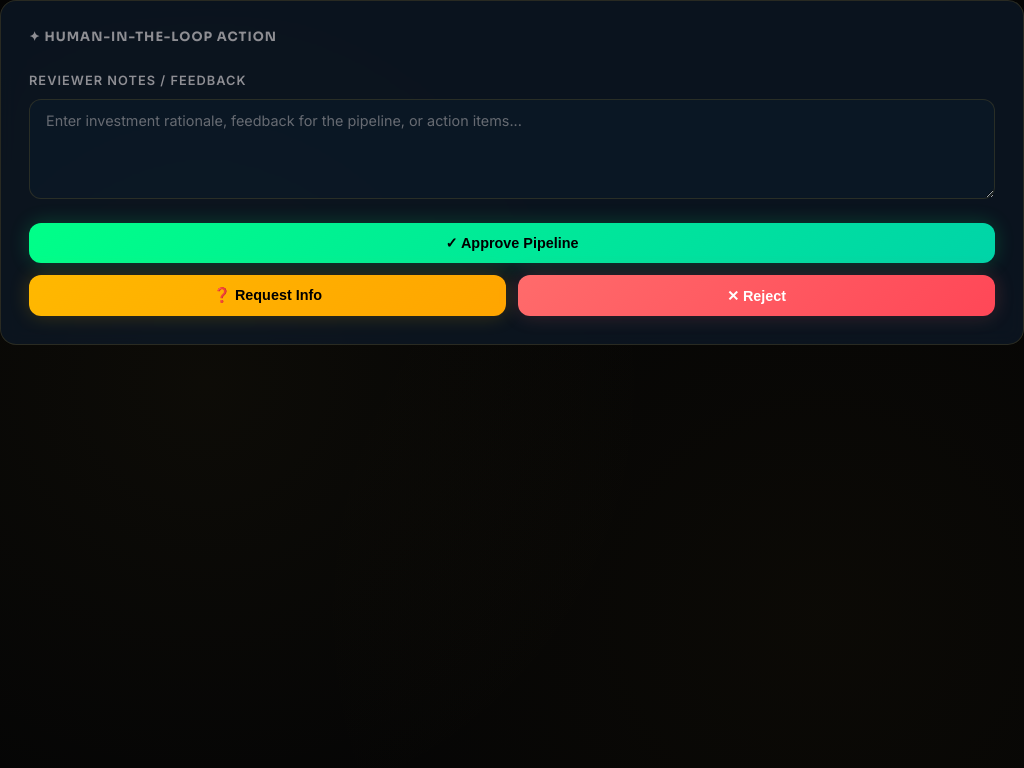
Test: HITLPanel › shows success message after approve click
Click the button "✓ Approve Pipeline". click: (512, 243)
box: [29,223,995,263]
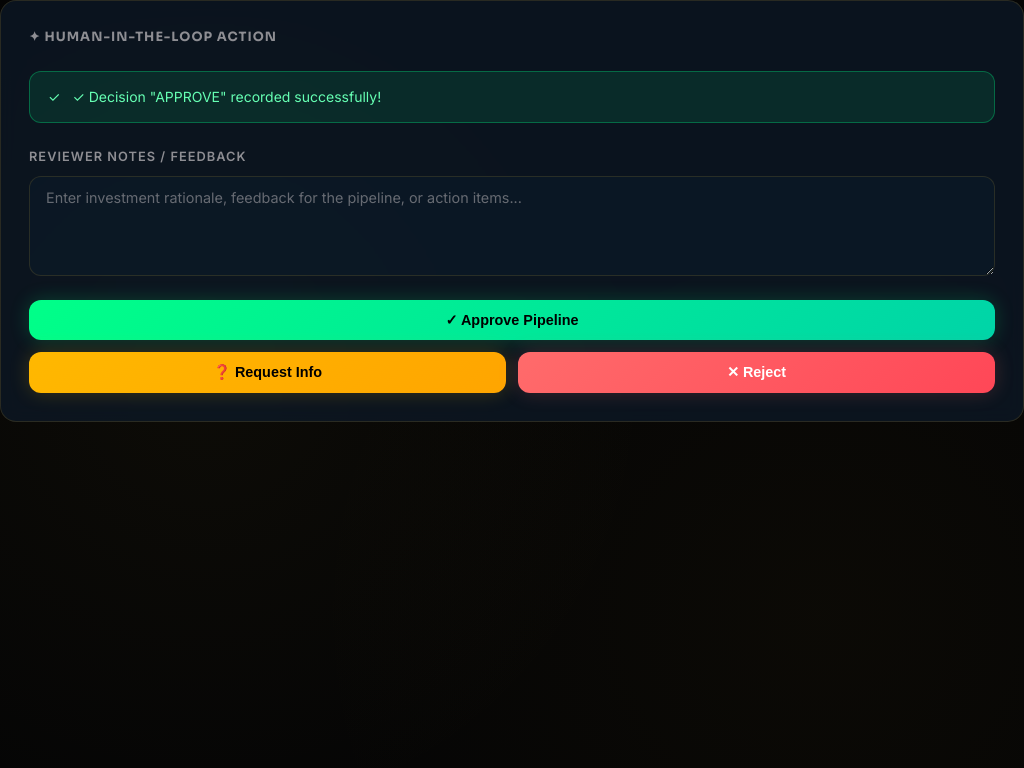
Expected: the text "✓ ✓ Decision \"APPROVE\" recorded successfully!" is shown, [29,71,995,123]
